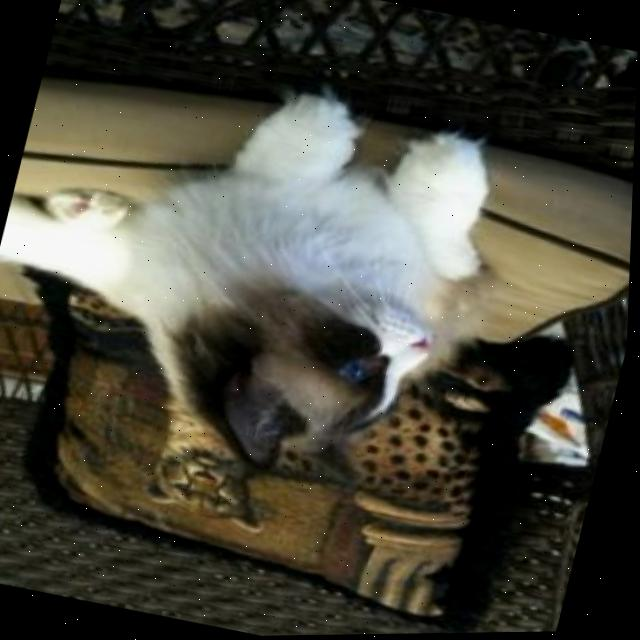Ragdoll: (0, 26, 560, 528)
